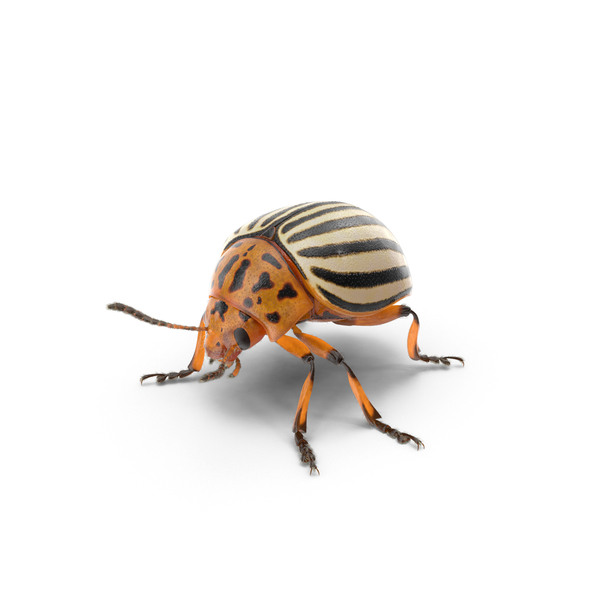hrosc: (180, 183, 442, 460)
